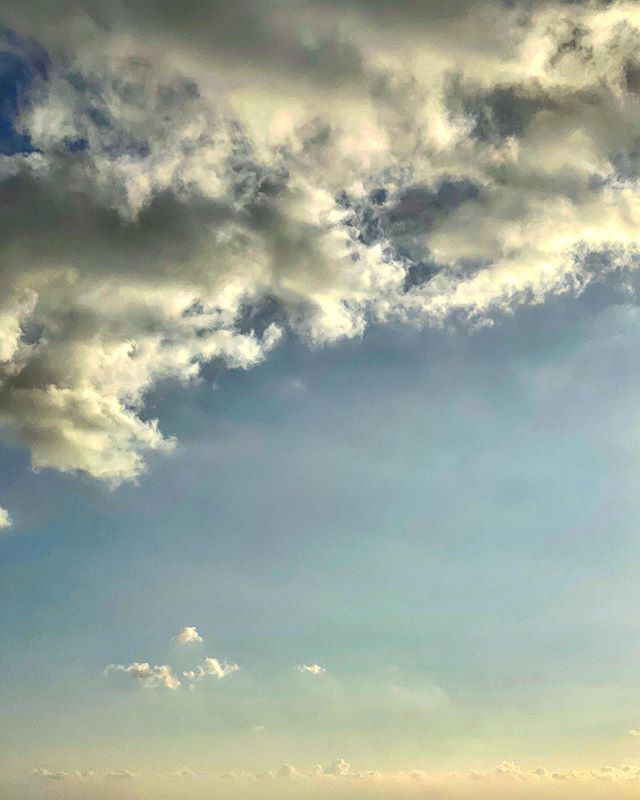sky: (1, 4, 640, 800)
